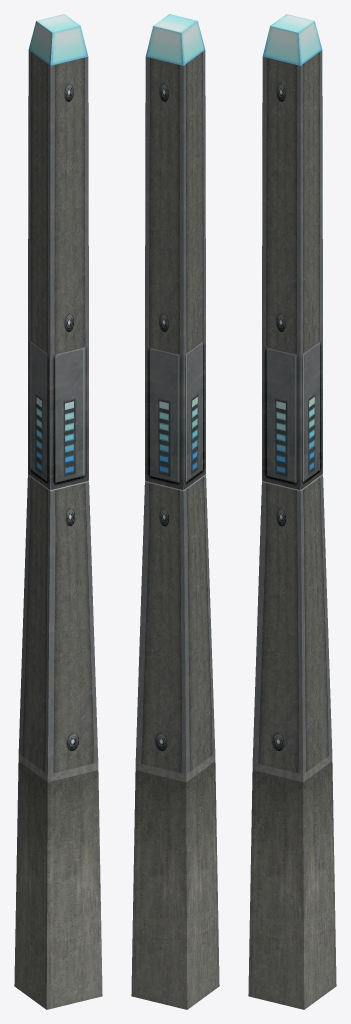
Rendered from frn_all_glow_light_s3_l1.fbx.
3 renders of one model, left to right at view 1: azimuth 30°, elevation 25°; view 2: azimuth 150°, elevation 25°; view 3: azimuth 330°, elevation 25°, orthographic.
Visible parts, largest first — view 1: mesh_node; view 2: mesh_node; view 3: mesh_node.
Boxes of the visible parts, <box> form: mesh_node: <box>14,14,102,1009</box>; mesh_node: <box>131,14,219,1009</box>; mesh_node: <box>248,14,336,1009</box>.
Bounding box in the file's own units: 0.3067 × 5.08 × 0.3067.
1 material, 1 textured.
